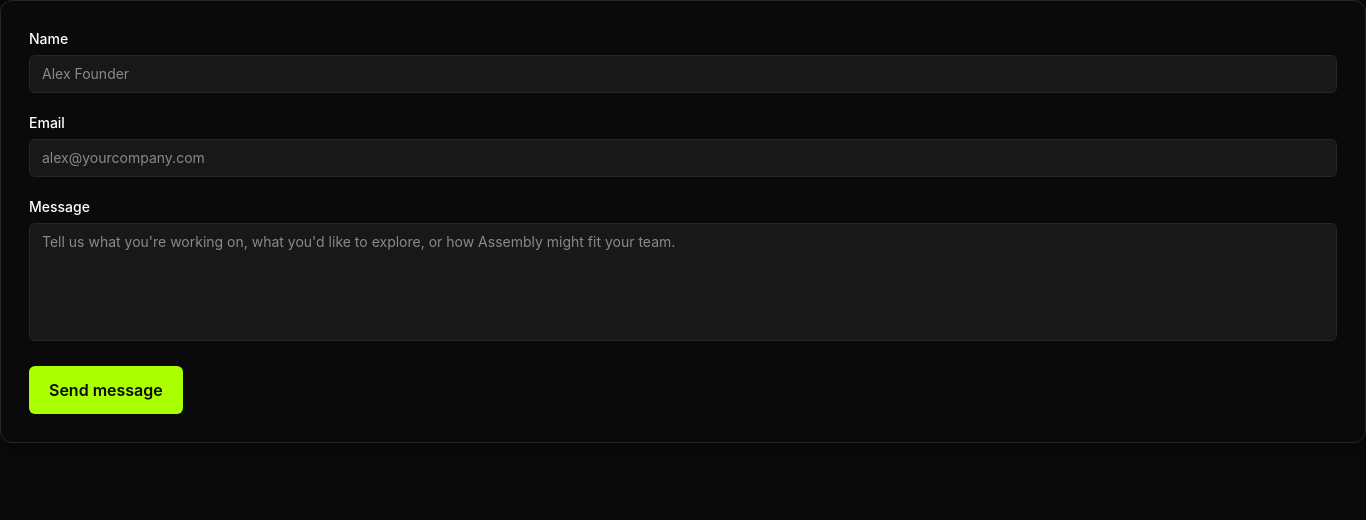
Scenario: Phase 10B.7 — final polish › ContactForm validates required fields client-side
Step 1. Click the button with test id "contact-submit" → (106, 390), box [29,366,183,414]
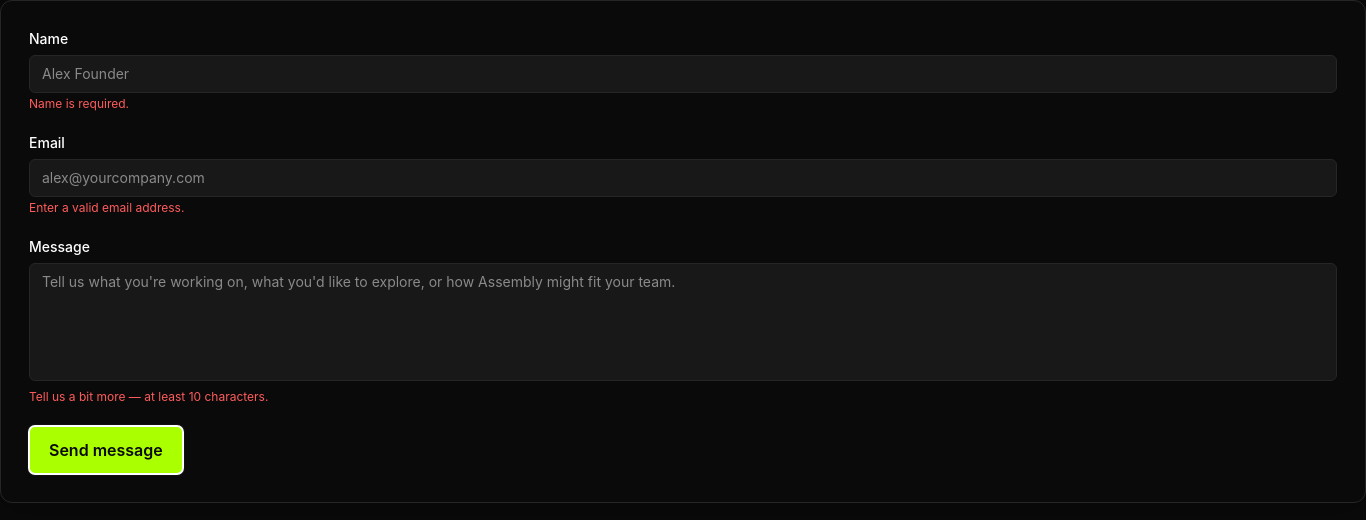
Now the text "Name is required." is shown, box [29,96,129,111]
Now the text "Enter a valid email address." is shown, box [29,200,184,215]
Now the text "Tell us a bit more — at least 10 characters." is shown, box [29,389,268,404]
